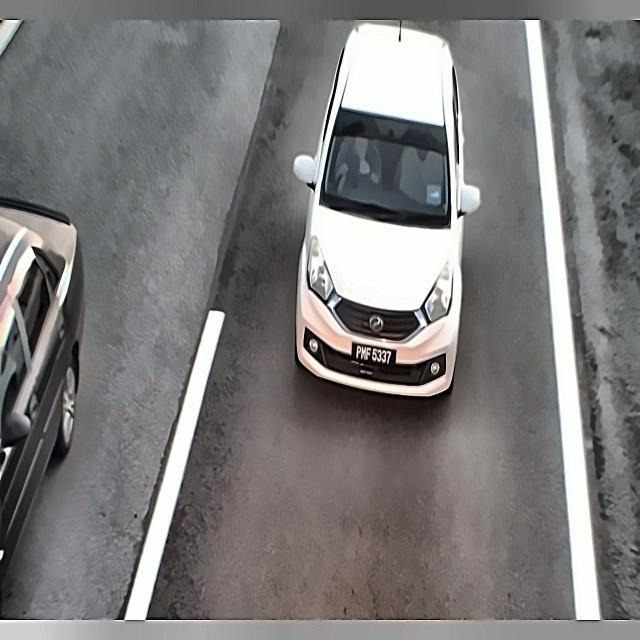car: (347, 337, 403, 375)
